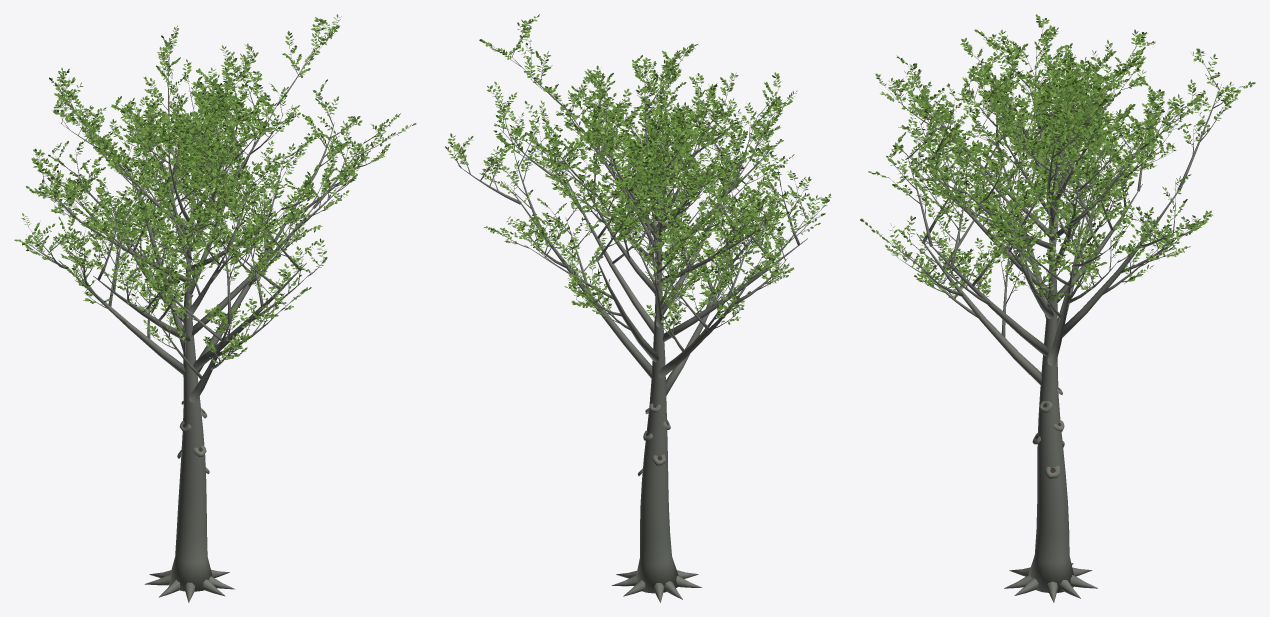
File: Beech_Mature_01_MediumPruned_Healed_LOD0.fbx
3 renders of one model, left to right at view 1: azimuth 30°, elevation 25°; view 2: azimuth 150°, elevation 25°; view 3: azimuth 270°, elevation 25°, orthographic. The views are drawn at different scales.
Parts seen in each view (by area): view 1: Beech_Mature_01_MediumPruned_Healed_LOD0; view 2: Beech_Mature_01_MediumPruned_Healed_LOD0; view 3: Beech_Mature_01_MediumPruned_Healed_LOD0.
Boxes of the visible parts, box(x1,y1,x2,y2) form: Beech_Mature_01_MediumPruned_Healed_LOD0: box(14, 14, 416, 602); Beech_Mature_01_MediumPruned_Healed_LOD0: box(445, 14, 831, 602); Beech_Mature_01_MediumPruned_Healed_LOD0: box(860, 14, 1255, 602).
Bounding box in the file's own units: 1733 × 2506 × 1566.
6 materials, 2 textured.
